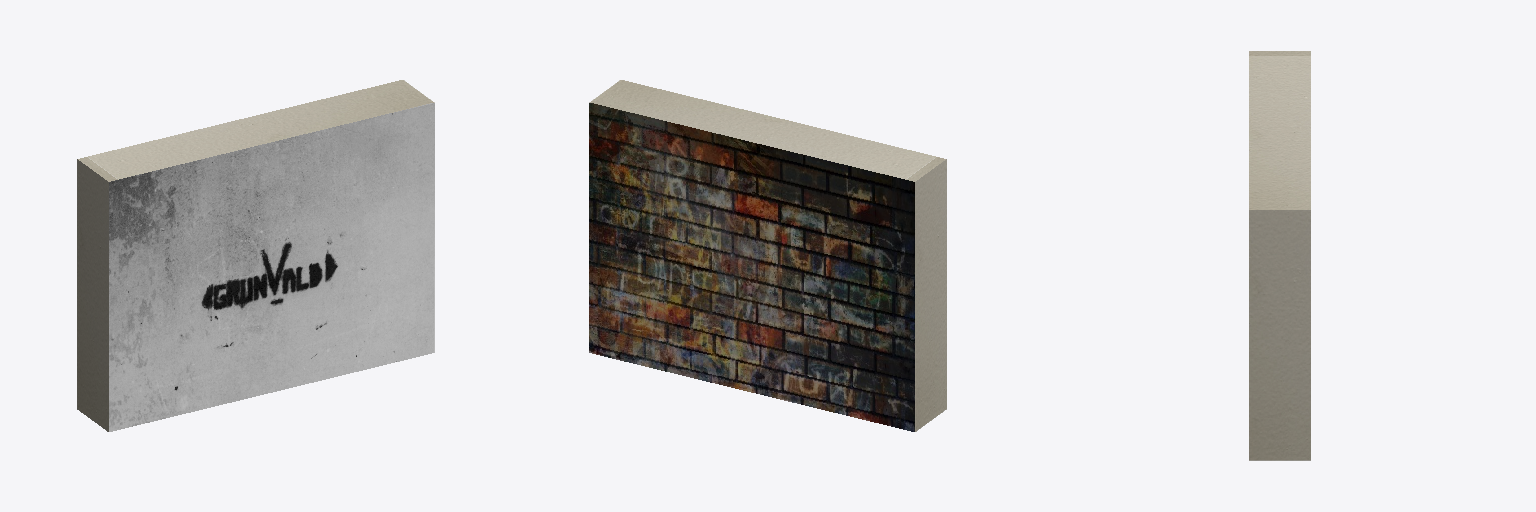
3 views of the same model, side by side, from view 1: azimuth 30°, elevation 25°; view 2: azimuth 150°, elevation 25°; view 3: azimuth 270°, elevation 25° (orthographic).
Parts seen in each view (by area): view 1: Cube.020_Cube.007; view 2: Cube.020_Cube.007; view 3: Cube.020_Cube.007.
Part boxes in pixels (x1,y1,x2,y2): Cube.020_Cube.007: (77, 80, 434, 431); Cube.020_Cube.007: (589, 80, 946, 431); Cube.020_Cube.007: (1249, 51, 1310, 460).
Bounding box in the file's own units: 24 × 17.63 × 4.
3 materials, 3 textured.